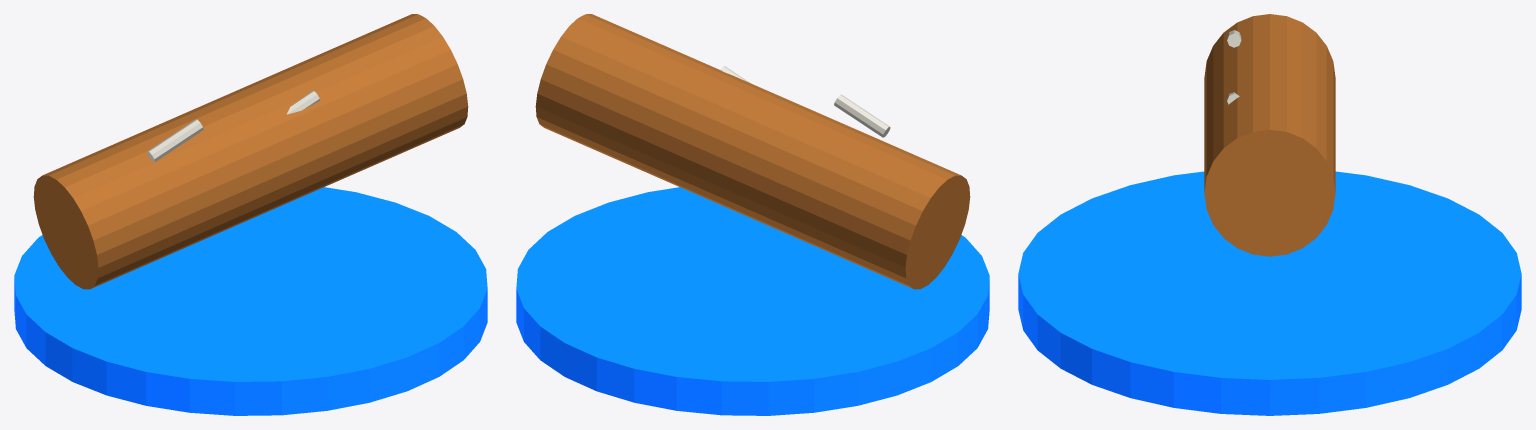
The model's file is french_baguette.dae.
3 views of the same model, side by side, from view 1: azimuth 30°, elevation 25°; view 2: azimuth 150°, elevation 25°; view 3: azimuth 270°, elevation 25° (orthographic). The views are drawn at different scales.
Parts seen in each view (by area): view 1: 10_10_Popular_French_Baguette_ROOT_base, 10_10_Popular_French_Baguette_part_01, 10_10_Popular_French_Baguette_part_02; view 2: 10_10_Popular_French_Baguette_ROOT_base, 10_10_Popular_French_Baguette_part_01, 10_10_Popular_French_Baguette_part_02; view 3: 10_10_Popular_French_Baguette_ROOT_base, 10_10_Popular_French_Baguette_part_01.
Part boxes in pixels (bbox=[...]): 10_10_Popular_French_Baguette_ROOT_base: bbox=[14, 187, 487, 415]; 10_10_Popular_French_Baguette_part_01: bbox=[33, 14, 468, 289]; 10_10_Popular_French_Baguette_part_02: bbox=[147, 119, 203, 162]; 10_10_Popular_French_Baguette_ROOT_base: bbox=[516, 187, 989, 415]; 10_10_Popular_French_Baguette_part_01: bbox=[535, 14, 970, 289]; 10_10_Popular_French_Baguette_part_02: bbox=[834, 94, 890, 137]; 10_10_Popular_French_Baguette_ROOT_base: bbox=[1018, 171, 1521, 415]; 10_10_Popular_French_Baguette_part_01: bbox=[1204, 14, 1335, 256].
Size of the model in its own units: 0.76 by 0.4508 by 0.76.
